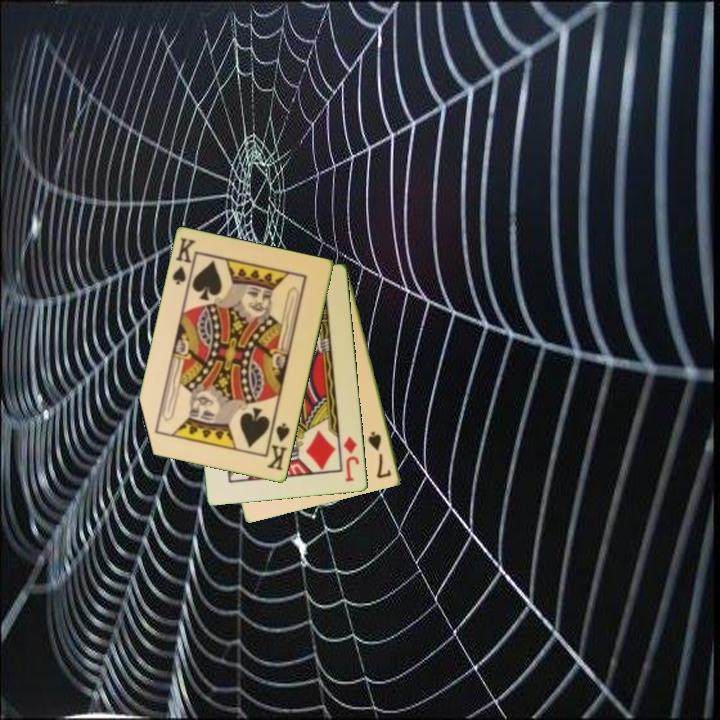7s: (365, 428, 395, 481)
Jd: (340, 434, 362, 485)
Ks: (169, 234, 199, 292), (264, 418, 293, 473)
